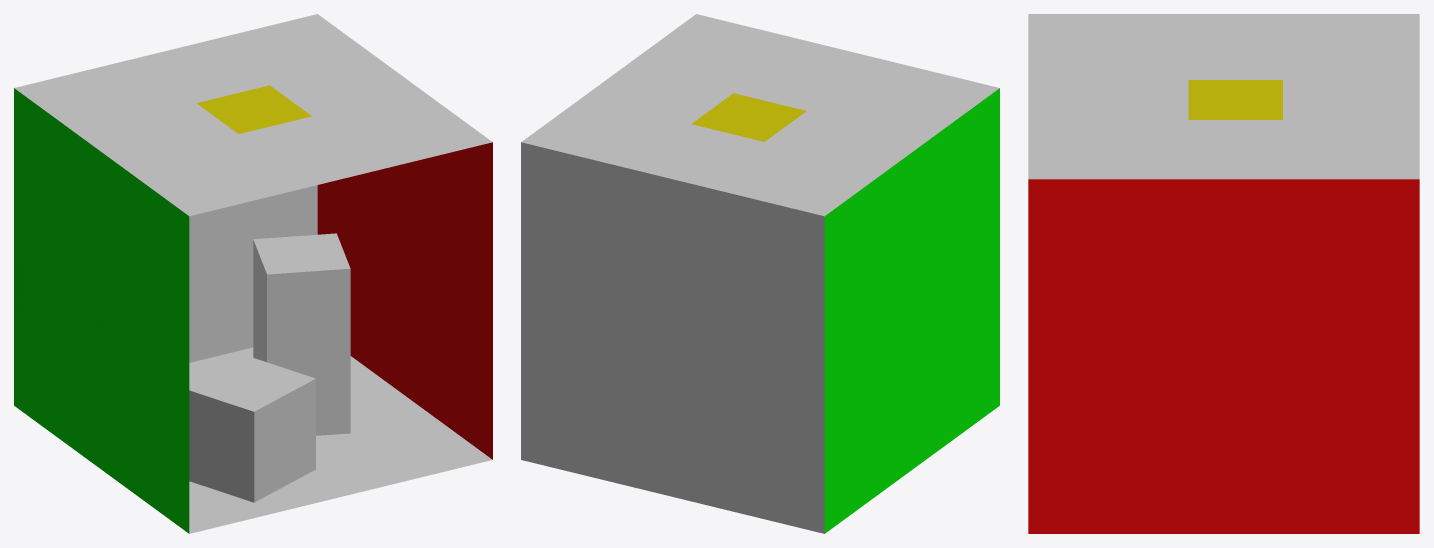
3 views of the same model, side by side, from view 1: azimuth 30°, elevation 25°; view 2: azimuth 150°, elevation 25°; view 3: azimuth 270°, elevation 25° (orthographic). The views are drawn at different scales.
Visible parts, largest first — view 1: Plane.001, Plane.004, Plane.002, Plane, Cube, Cube.001, Plane.003, Plane.005_Plane.006; view 2: Plane.003, Plane.001, Plane.004, Plane.005_Plane.006; view 3: Plane.002, Plane.004, Plane.005_Plane.006.
Part boxes in pixels (x1,y1,x2,y2): Plane.001: (14, 88, 189, 533); Plane.004: (14, 14, 492, 216); Plane.002: (317, 142, 492, 459); Plane: (189, 347, 492, 533); Cube: (189, 352, 315, 502); Cube.001: (253, 233, 350, 435); Plane.003: (189, 185, 317, 362); Plane.005_Plane.006: (197, 85, 311, 133); Plane.003: (521, 142, 824, 533); Plane.001: (824, 88, 999, 533); Plane.004: (521, 14, 999, 216); Plane.005_Plane.006: (691, 93, 806, 141); Plane.002: (1028, 179, 1419, 533); Plane.004: (1028, 14, 1419, 179); Plane.005_Plane.006: (1188, 80, 1282, 119).
Size of the model in its own units: 8.28 by 8.28 by 8.28.
